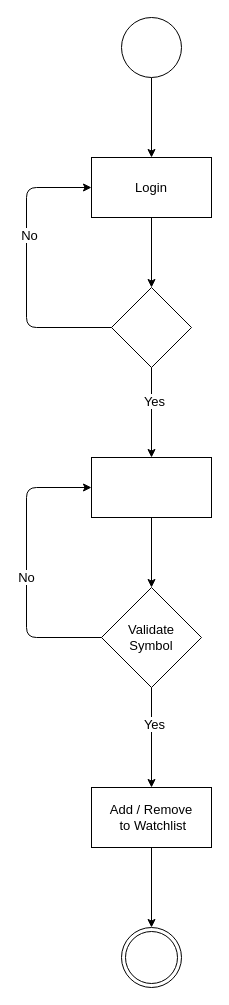
Some shapes in this 229 by 1005 pixel diagram are drawn without their labels. The centre of each missing label's shape, as x and y in pixels:
"Enter Stock Symbol" belongs at pixel 151 487.
"Validate" belongs at pixel 151 327.
